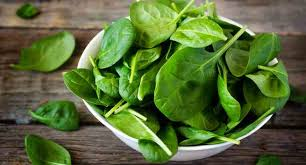spinach: (114, 22, 244, 131)
